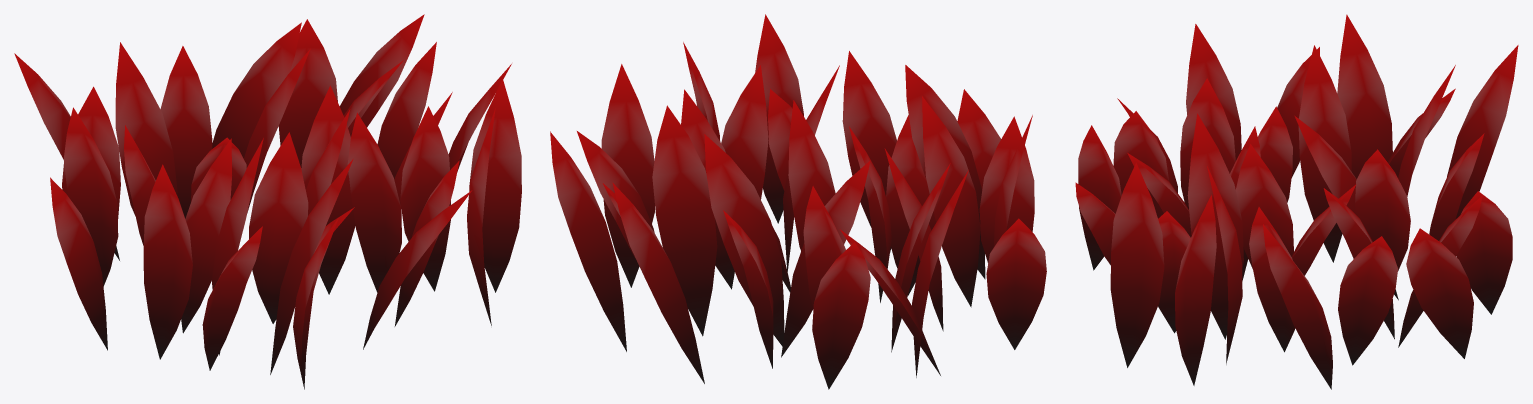
The model's file is Grass.fbx.
3 renders of one model, left to right at view 1: azimuth 30°, elevation 25°; view 2: azimuth 150°, elevation 25°; view 3: azimuth 270°, elevation 25°, orthographic. The views are drawn at different scales.
Visible parts, largest first — view 1: Grass; view 2: Grass; view 3: Grass.
Boxes of the visible parts, bbox=[...] form: Grass: bbox=[14, 14, 521, 389]; Grass: bbox=[550, 14, 1046, 389]; Grass: bbox=[1075, 14, 1518, 389].
Size of the model in its own units: 4.74 by 2.2 by 4.2.
